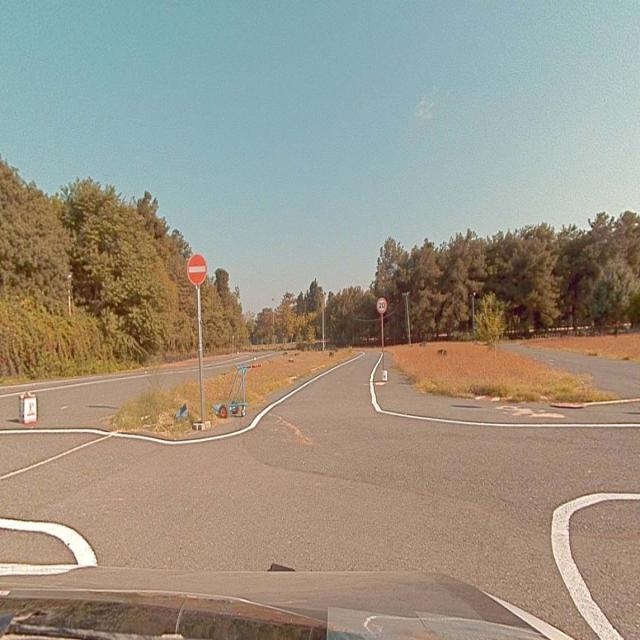20: (377, 298, 387, 313)
girisyok: (188, 254, 206, 284)
